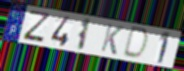1: (78, 17, 93, 52), (158, 32, 173, 66)
4: (49, 14, 72, 48)
D: (121, 25, 151, 62)
K: (99, 23, 125, 57)
Z: (21, 10, 51, 44)
